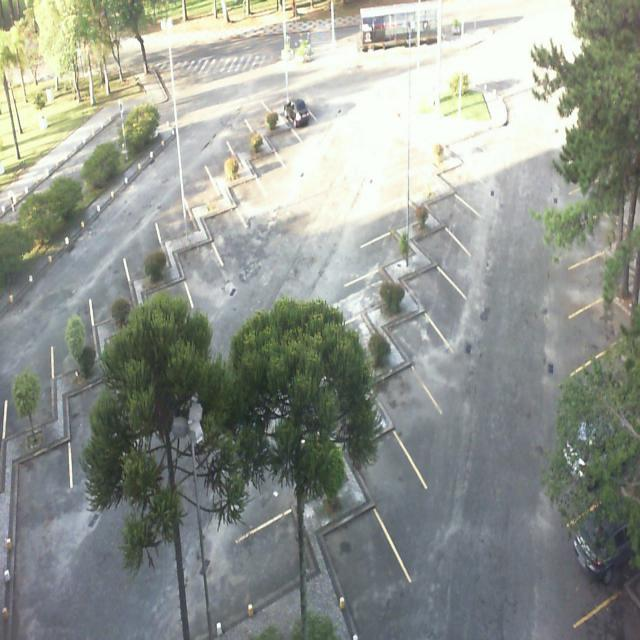space-empty: (322, 488, 402, 620), (235, 500, 324, 608), (351, 401, 425, 521), (386, 287, 451, 382), (374, 355, 440, 444), (405, 251, 459, 328), (416, 205, 469, 274), (339, 250, 398, 310), (94, 245, 136, 324), (426, 173, 478, 236), (356, 215, 414, 266), (368, 176, 426, 226), (437, 147, 489, 200), (126, 214, 167, 279), (181, 222, 220, 290), (158, 180, 196, 242), (204, 189, 243, 248), (229, 159, 267, 218), (380, 150, 434, 190), (449, 122, 492, 168), (265, 107, 303, 157), (205, 125, 240, 179), (225, 105, 261, 156), (183, 151, 218, 202), (248, 134, 285, 182), (399, 126, 442, 159), (245, 87, 276, 132)
space-occupied: (282, 88, 318, 134)
